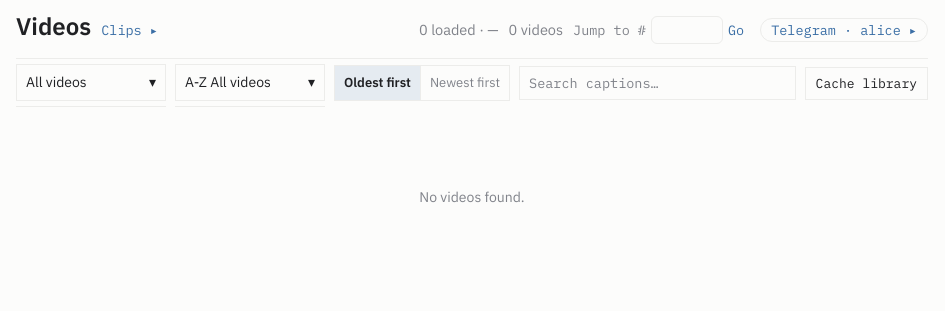
App category filters › renders both the chronological and alphabetical dropdowns, and selecting in the alphabetical one drives the same selection the chronological one reflects
Expected: the element named "Video category filter" is shown, [16,59,166,107]
Expected: the element named "Video category filter, alphabetical" is shown, [175,59,325,107]
Click the button "A-Z All videos ▾". click: (250, 82)
box: [175,64,325,101]
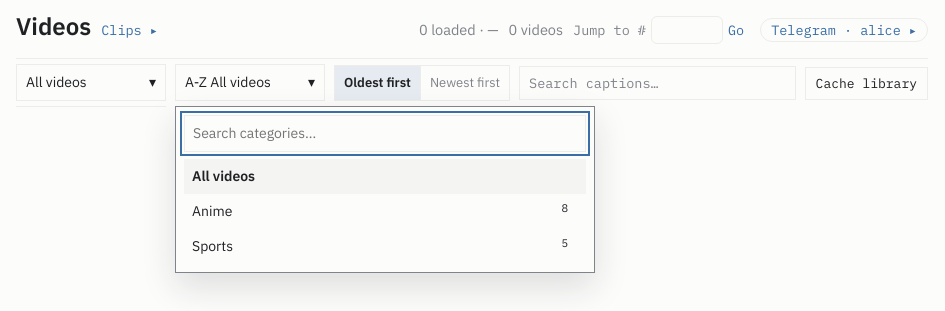
Click the option "Anime 8". click: (212, 211)
box: [184,194,586,229]
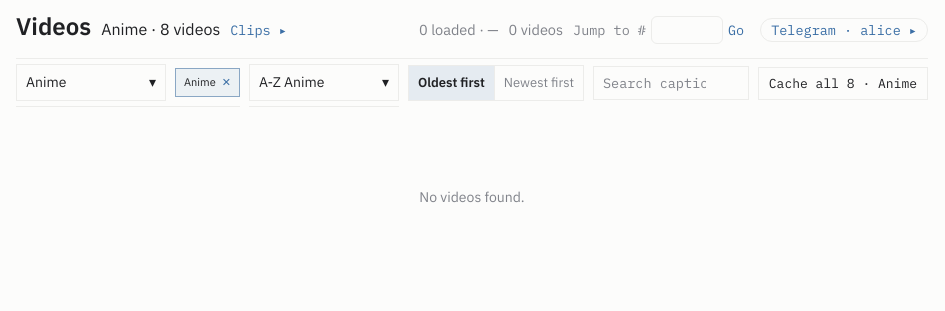
Expected: the button "A-Z Anime ▾" is shown, [249,64,399,101]
Expected: the button "Anime ▾" is shown, [16,64,166,101]
